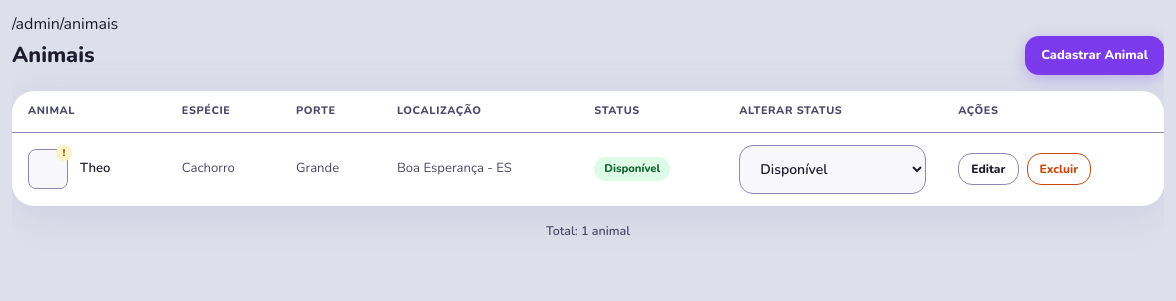
Test: alteração de status na linha › CT-73: `ANIMAL_NOT_FOUND` exibe a mensagem da API e RECARREGA a lista
Select "Reservado" in the dropdown named "Alterar status de Theo" at coordinates (833, 169), box [739,144,926,194]
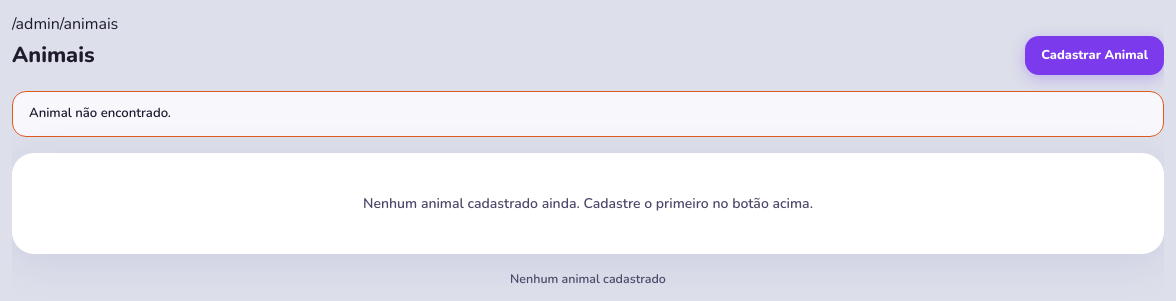
Expected: the text "Animal não encontrado." is shown, [12,91,1164,137]
Expected: the text "Theo" is gone
